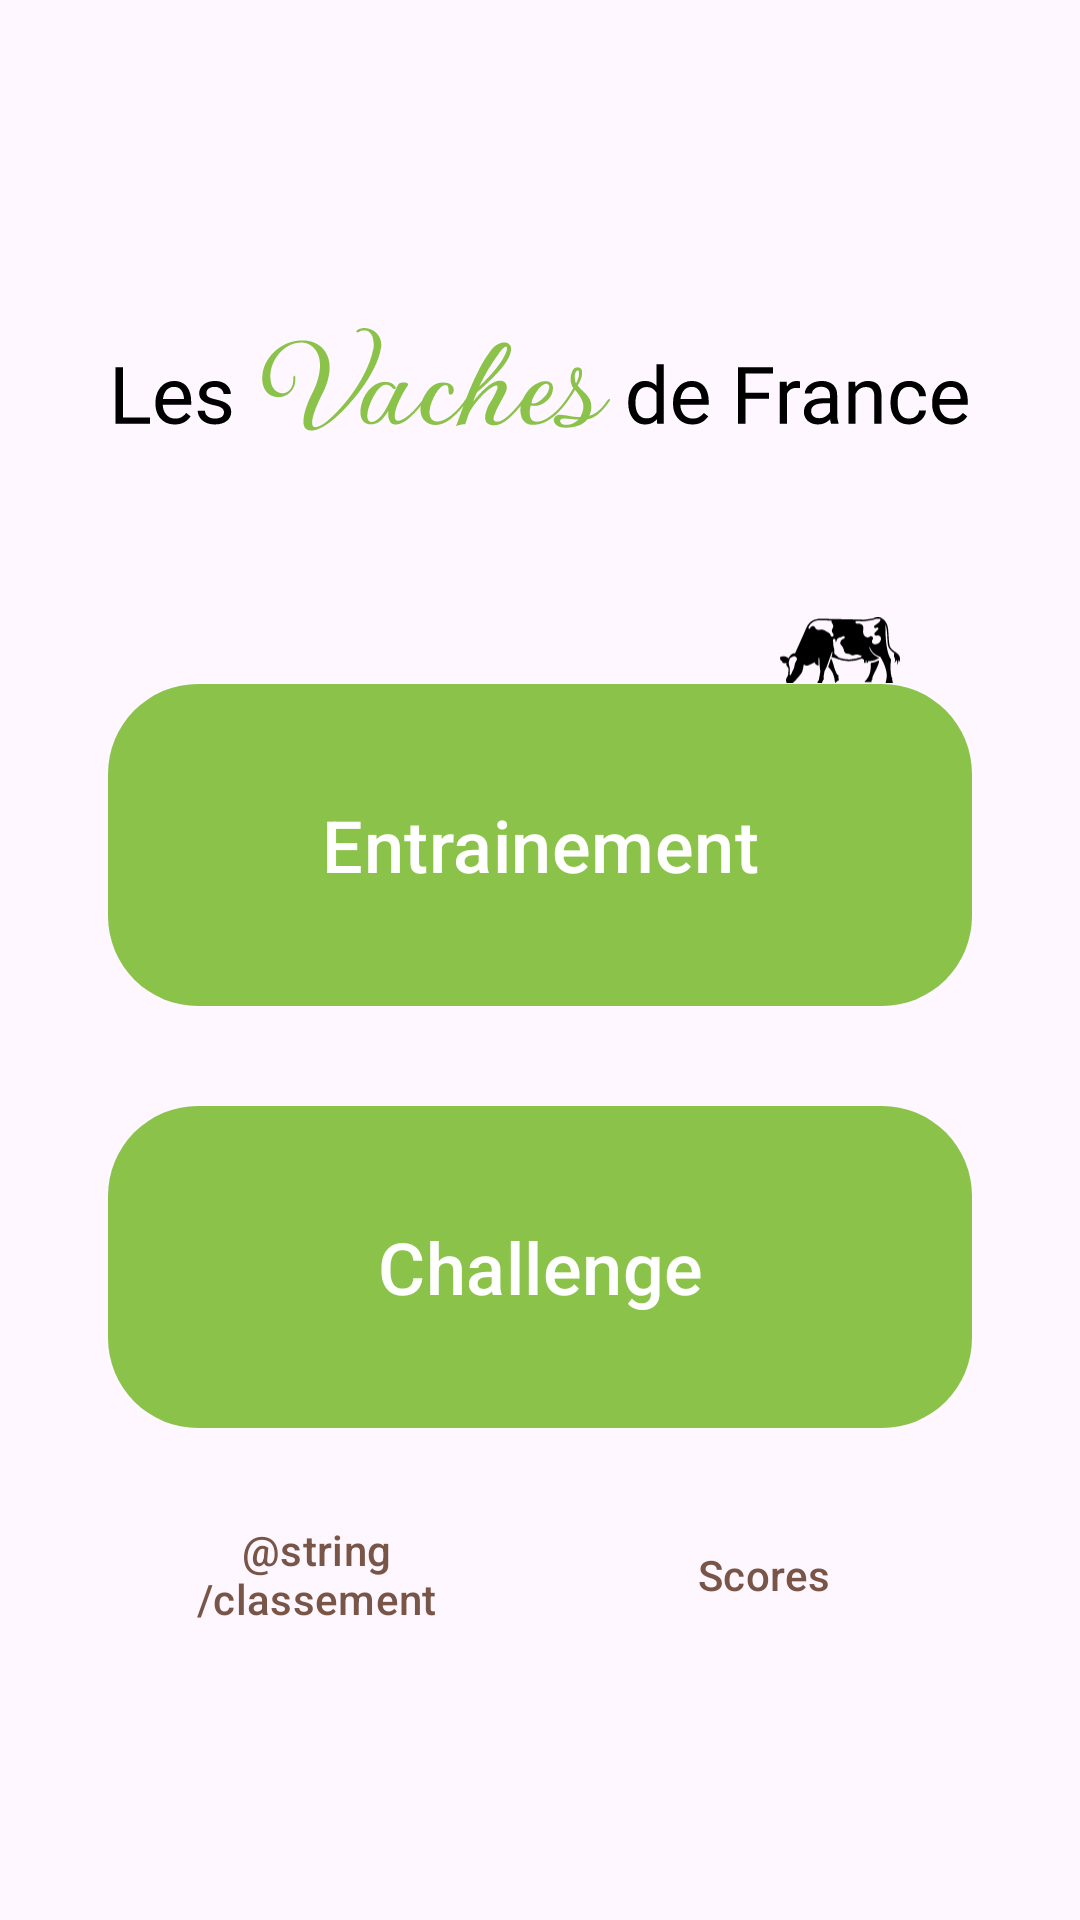

Where to tap for icons on this 1080 × 1920 app screen, as (x,y):
vache: (840,650)
